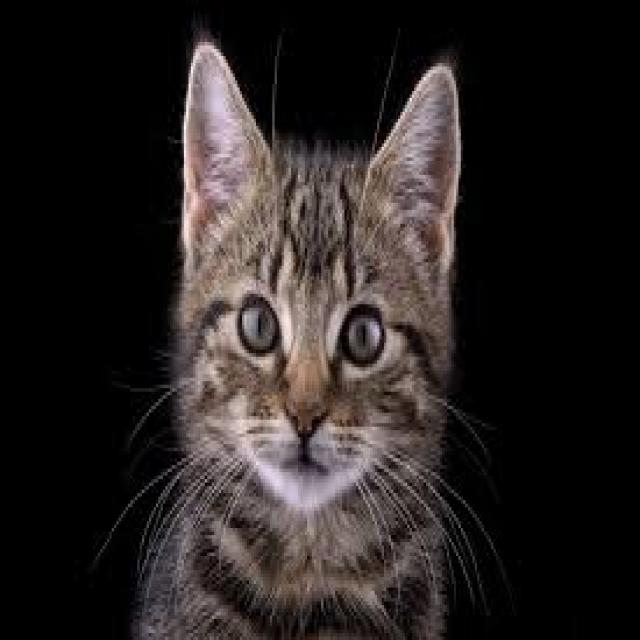Cat: (130, 28, 477, 640)
